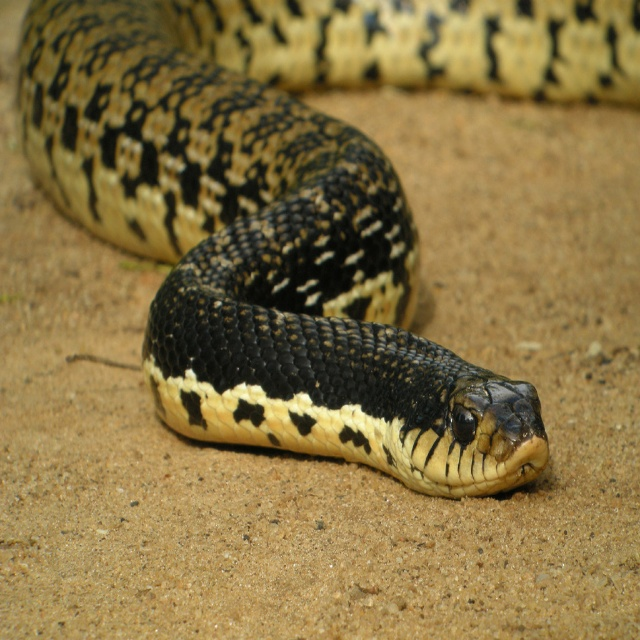Snake: (18, 3, 640, 495)
